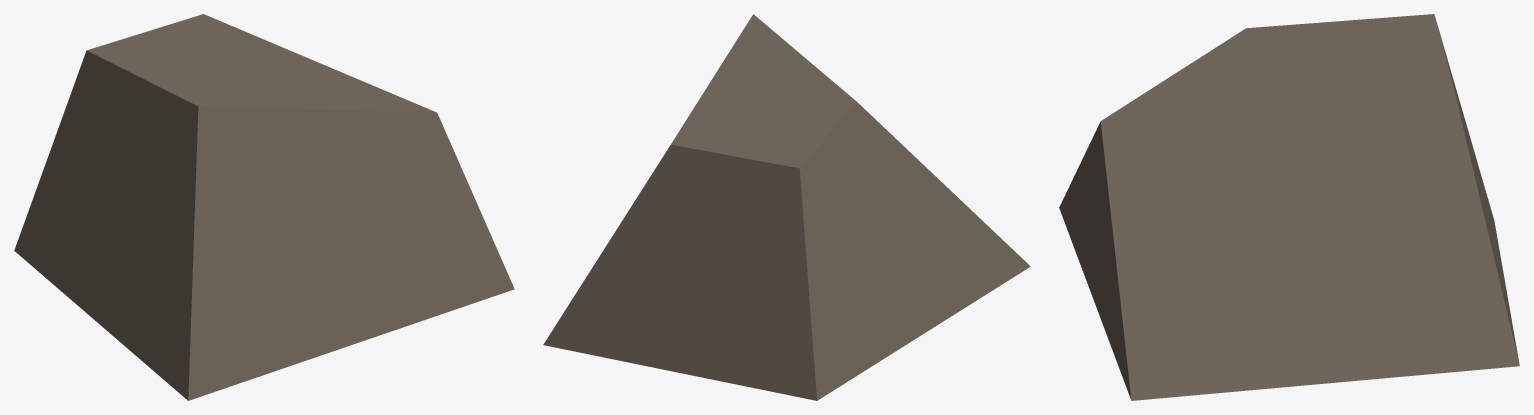
File: ston2.FBX
The picture shows the model from 3 angles, left to right: view 1: azimuth 30°, elevation 25°; view 2: azimuth 150°, elevation 25°; view 3: azimuth 270°, elevation 25°; orthographic projection. The views are drawn at different scales.
Visible parts, largest first — view 1: Rocks_and_grass_1; view 2: Rocks_and_grass_1; view 3: Rocks_and_grass_1.
Boxes of the visible parts, x1,y1,x2,y2 form: Rocks_and_grass_1: (14,14,514,400); Rocks_and_grass_1: (543,14,1030,400); Rocks_and_grass_1: (1059,14,1519,400).
Size of the model in its own units: 65.76 by 36.6 by 66.27.
